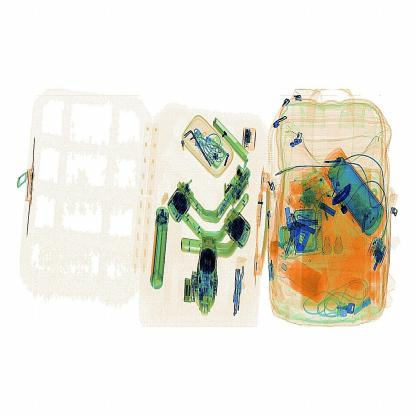knife: (332, 182, 352, 211)
